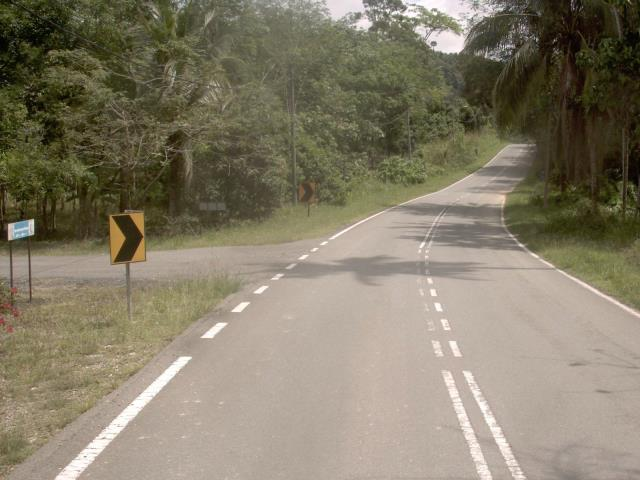traffic_sign: (99, 205, 155, 271)
